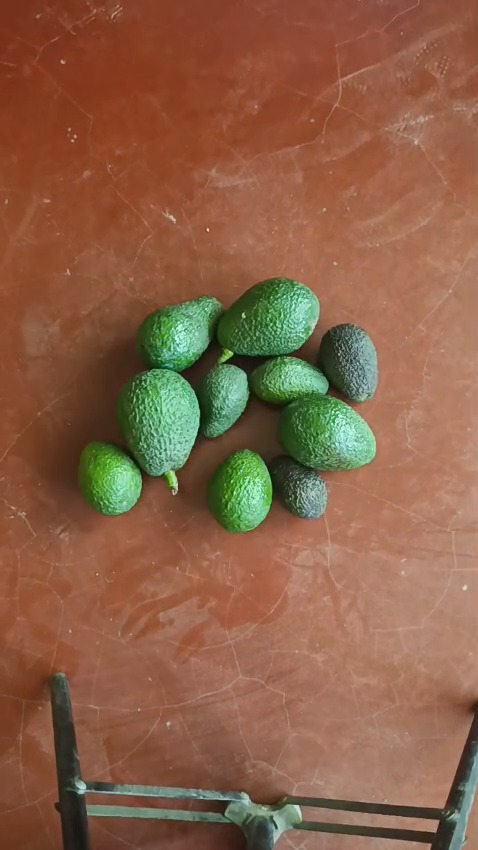Primera: (117, 367, 201, 483), (216, 277, 321, 358)
Segunda: (278, 394, 376, 472), (136, 296, 223, 372)
Tercera: (206, 449, 273, 531), (317, 323, 379, 402), (77, 441, 143, 515), (195, 360, 249, 438), (249, 356, 330, 406), (269, 455, 327, 519)
